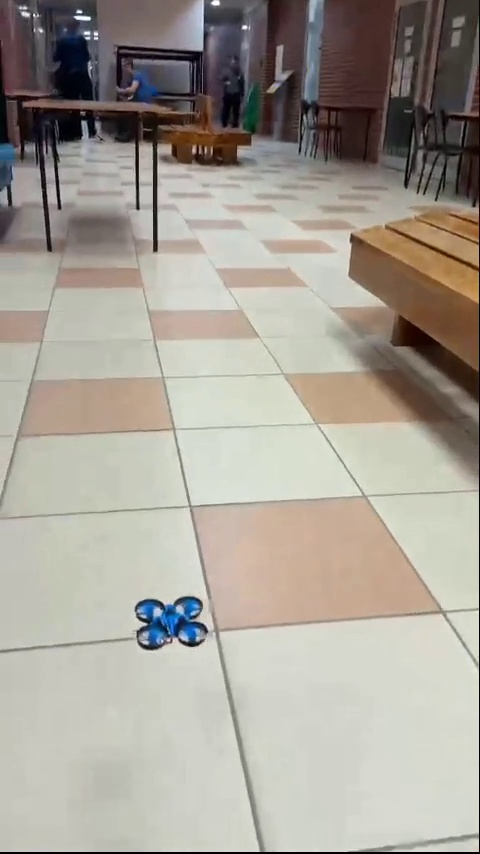drone: (134, 596, 206, 650)
no vest: (47, 12, 101, 103), (111, 49, 159, 111), (215, 45, 248, 133)
